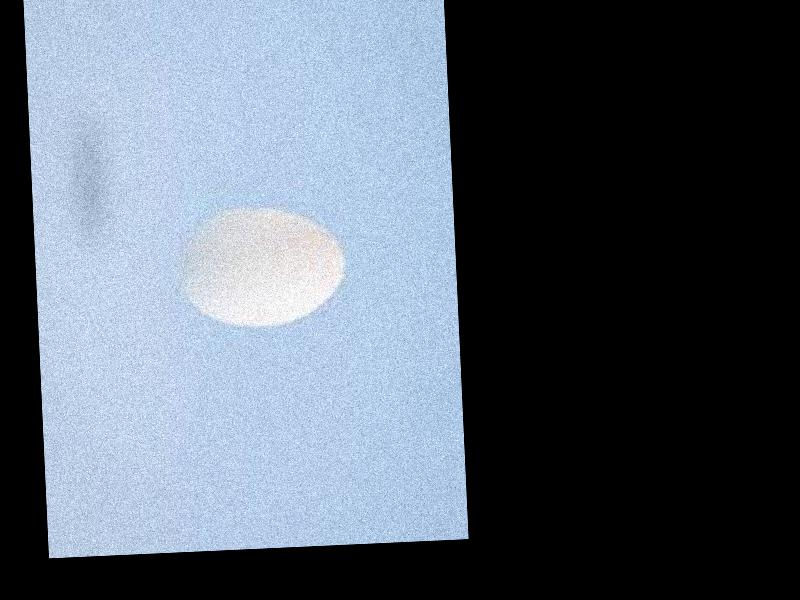Eggs: (175, 202, 348, 330)
